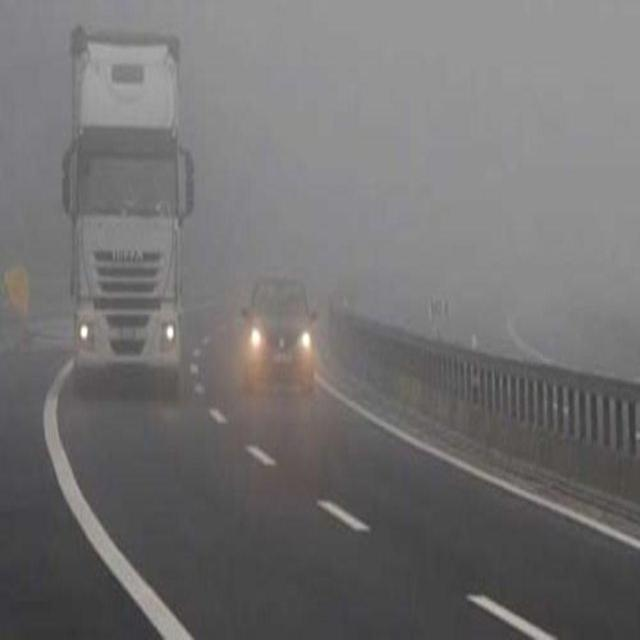Car: (242, 269, 320, 393)
Truck: (62, 22, 196, 398)
